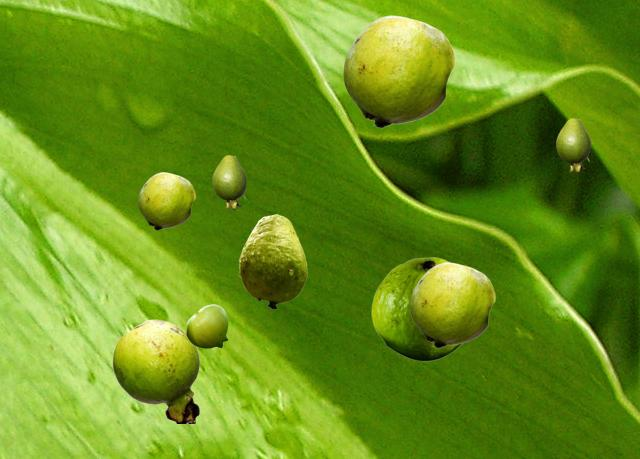guava: (343, 15, 454, 127), (371, 257, 462, 360), (112, 319, 199, 422), (410, 262, 494, 347), (238, 214, 306, 308), (138, 172, 194, 229), (186, 304, 227, 347), (556, 118, 589, 171), (212, 155, 245, 208)
